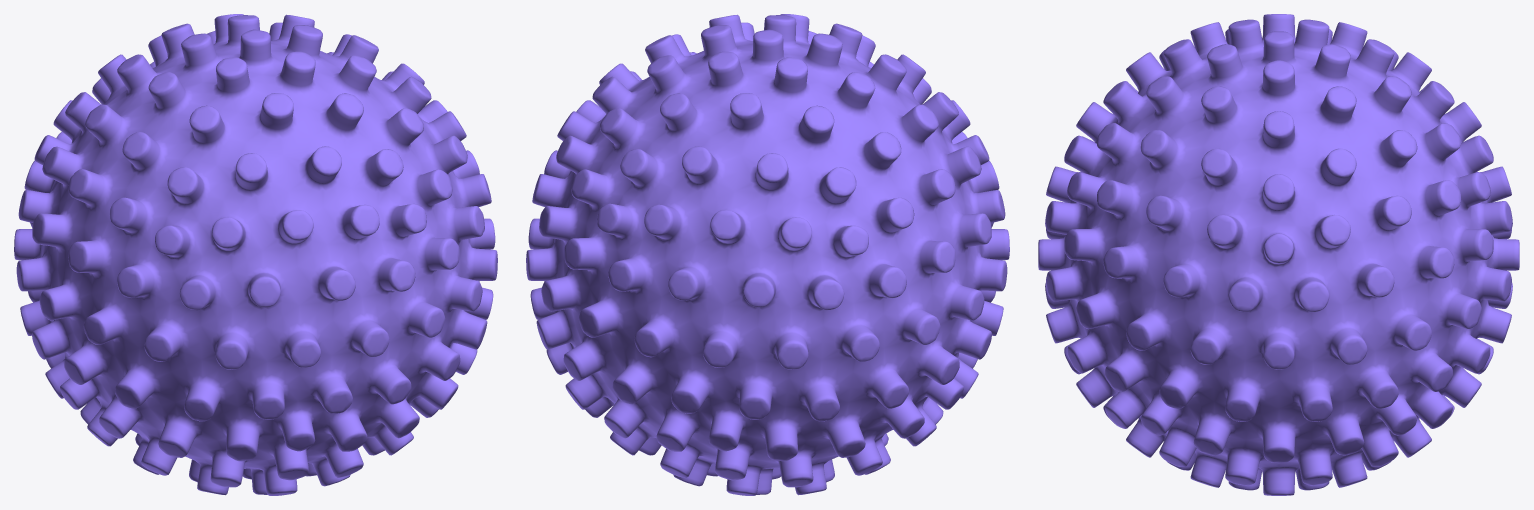
The picture shows the model from 3 angles, left to right: view 1: azimuth 30°, elevation 25°; view 2: azimuth 150°, elevation 25°; view 3: azimuth 270°, elevation 25°; orthographic projection.
Parts seen in each view (by area): view 1: Ball; view 2: Ball; view 3: Ball.
Part boxes in pixels (x1,y1,x2,y2): Ball: [14, 14, 497, 495]; Ball: [526, 14, 1009, 495]; Ball: [1038, 14, 1519, 495].
Bounding box in the file's own units: 1.68 × 1.68 × 1.68.
